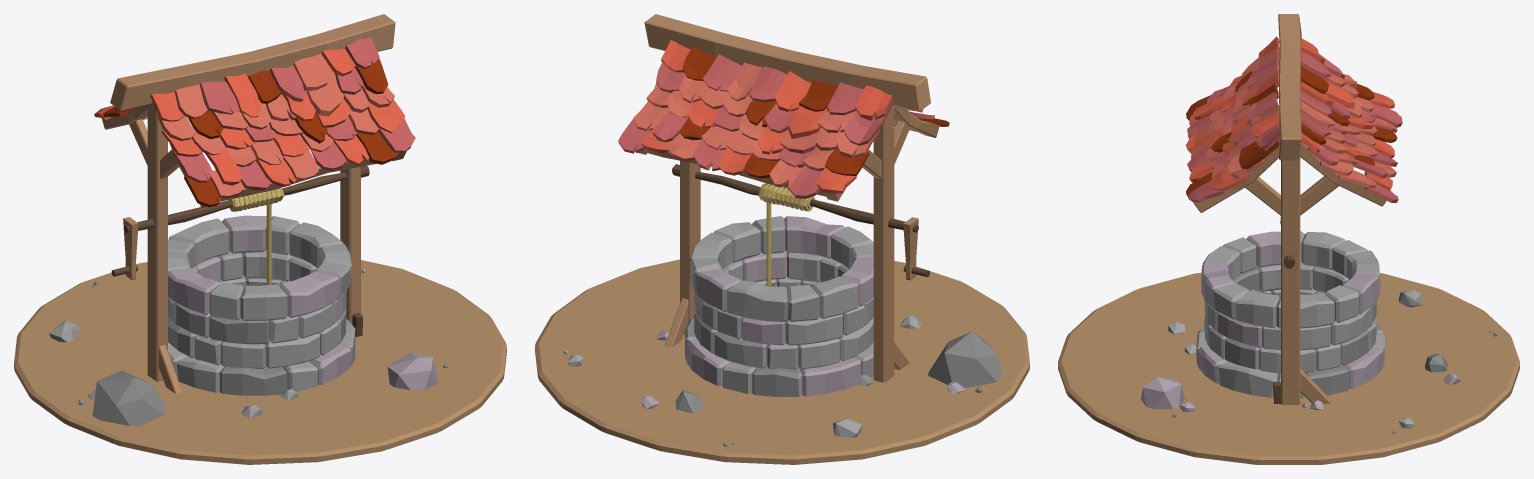
File: pozo.fbx
3 views of the same model, side by side, from view 1: azimuth 30°, elevation 25°; view 2: azimuth 150°, elevation 25°; view 3: azimuth 270°, elevation 25° (orthographic). The views are drawn at different scales.
Visible parts, largest first — view 1: Cylinder.004, Plane.000, Cube.003, Cube.006, Cube.002, Cube, Cube.005, Cube.001, Icosphere.010, Cube.004, Icosphere.001, Cylinder (+5 smaller); view 2: Cylinder.004, Plane.010, Cube.003, Cube.006, Cube.002, Cube, Cube.005, Cube.001, Icosphere.010, Cube.004, Cylinder, Cylinder.002 (+4 smaller); view 3: Cylinder.004, Cube.003, Plane.010, Plane.000, Cube.002, Cube.004, Cube, Cube.001, Cube.006, Icosphere.001, Cube.014, Cube.015 (+3 smaller).
Part boxes in pixels (x1,y1,x2,y2): Cylinder.004: (14, 260, 506, 464); Plane.000: (150, 37, 415, 207); Cube.003: (168, 215, 351, 320); Cube.006: (110, 14, 395, 111); Cube.002: (168, 249, 346, 344); Cube: (168, 319, 355, 395); Cube.005: (147, 103, 167, 381); Cube.001: (168, 274, 346, 368); Icosphere.010: (92, 370, 167, 426); Cube.004: (340, 167, 360, 324); Icosphere.001: (387, 352, 438, 390); Cylinder: (124, 166, 369, 233); Cylinder.004: (535, 251, 1029, 464); Plane.010: (618, 40, 893, 198); Cube.003: (689, 216, 873, 321); Cube.006: (644, 14, 930, 111); Cube.002: (694, 250, 873, 345); Cube: (685, 308, 873, 396); Cube.005: (873, 105, 894, 382); Cube.001: (694, 270, 873, 369); Icosphere.010: (927, 331, 1002, 388); Cube.004: (680, 160, 700, 334); Cylinder: (672, 164, 918, 232); Cylinder.002: (758, 183, 815, 211); Cylinder.004: (1058, 272, 1519, 464); Cube.003: (1201, 231, 1380, 328); Plane.010: (1300, 38, 1402, 202); Plane.000: (1186, 36, 1279, 202); Cube.002: (1204, 262, 1377, 350); Cube.004: (1281, 158, 1300, 404); Cube: (1196, 321, 1384, 398); Cube.001: (1204, 288, 1376, 373); Cube.006: (1278, 14, 1301, 160); Icosphere.001: (1141, 377, 1184, 409); Cube.014: (1300, 143, 1386, 206); Cube.015: (1193, 141, 1278, 212).
Bounding box in the file's own units: 3292 × 2333 × 3318.
